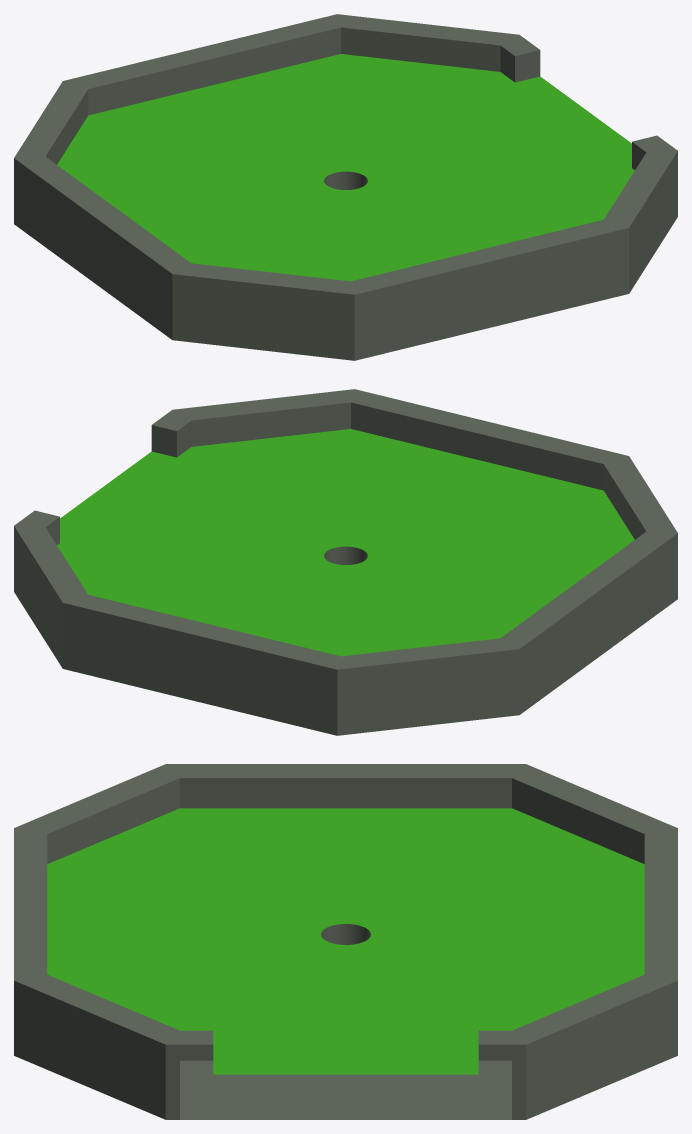
The model's file is HoleOctWalled.fbx.
3 renders of one model, top to bottom at view 1: azimuth 30°, elevation 25°; view 2: azimuth 150°, elevation 25°; view 3: azimuth 270°, elevation 25°, orthographic. The views are drawn at different scales.
Parts seen in each view (by area): view 1: Plane.007; view 2: Plane.007; view 3: Plane.007.
Part boxes in pixels (x1,y1,x2,y2): Plane.007: (14, 14, 677, 360); Plane.007: (14, 389, 677, 735); Plane.007: (14, 764, 677, 1119).
Size of the model in its own units: 400 by 50 by 400.
